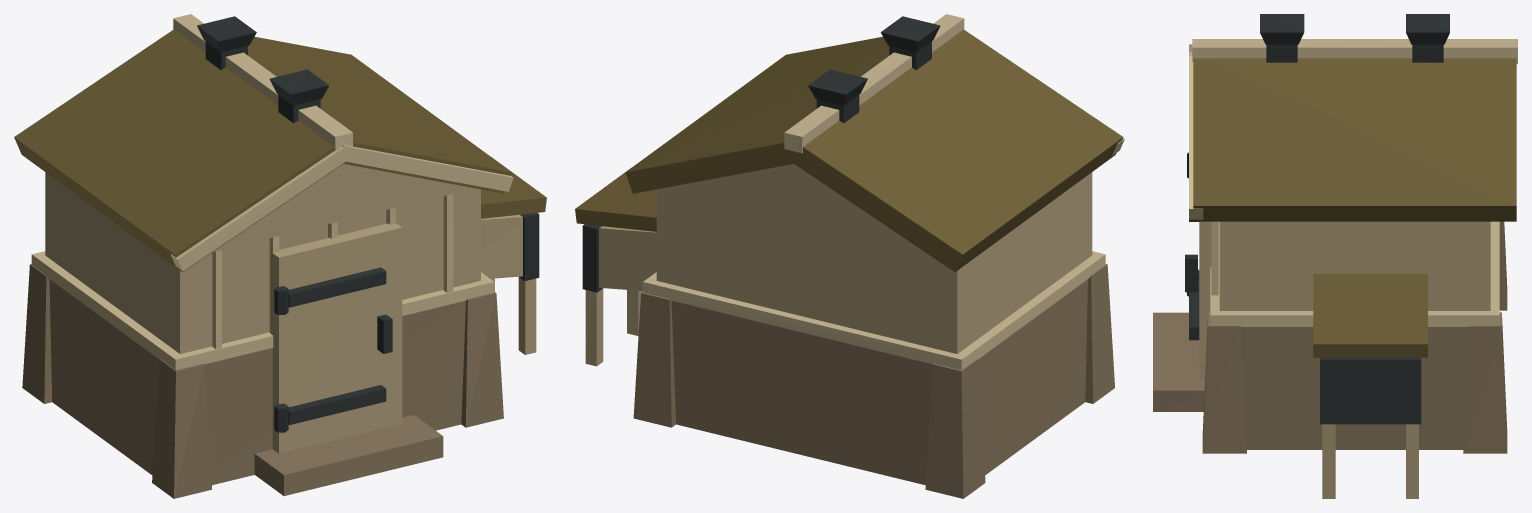
The model's file is ice-house.source.glb.
The picture shows the model from 3 angles, left to right: view 1: azimuth 30°, elevation 25°; view 2: azimuth 150°, elevation 25°; view 3: azimuth 270°, elevation 25°; orthographic projection.
Visible parts, largest first — view 1: ice-house-left-earth-roof-panel-mesh, ice-house-stone-wall-block-mesh, ice-house-upper-shell-block-mesh, ice-house-door-leaf-mesh, ice-house-right-earth-roof-panel-mesh, ice-house-threshold-stone-mesh, ice-house-front-gable-mesh, ice-house-front-left-stone-corner-mesh, ice-house-insulation-belt-mesh, ice-house-front-right-stone-corner-mesh, ice-house-roof-ridge-mesh, ice-house-left-roof-fascia-mesh (+13 smaller); view 2: ice-house-stone-wall-block-mesh, ice-house-left-earth-roof-panel-mesh, ice-house-upper-shell-block-mesh, ice-house-right-earth-roof-panel-mesh, ice-house-insulation-belt-mesh, ice-house-rear-gable-mesh, ice-house-rear-left-stone-corner-mesh, ice-house-rear-right-stone-corner-mesh, ice-house-roof-ridge-mesh, ice-house-loading-chute-body-mesh, ice-house-front-left-stone-corner-mesh, ice-house-loading-chute-cover-mesh (+5 smaller); view 3: ice-house-right-earth-roof-panel-mesh, ice-house-upper-shell-block-mesh, ice-house-stone-wall-block-mesh, ice-house-loading-chute-cover-mesh, ice-house-loading-chute-mouth-mesh, ice-house-roof-ridge-mesh, ice-house-rear-right-stone-corner-mesh, ice-house-front-right-stone-corner-mesh, ice-house-threshold-stone-mesh, ice-house-insulation-belt-mesh, ice-house-door-leaf-mesh, ice-house-roof-vent-1-cap-mesh (+10 smaller).
Part boxes in pixels (left/top/right/bottom): ice-house-left-earth-roof-panel-mesh: left=14, top=29, right=345, bottom=272; ice-house-stone-wall-block-mesh: left=49, top=279, right=465, bottom=485; ice-house-upper-shell-block-mesh: left=45, top=172, right=480, bottom=353; ice-house-door-leaf-mesh: left=271, top=223, right=402, bottom=453; ice-house-right-earth-roof-panel-mesh: left=248, top=36, right=511, bottom=193; ice-house-threshold-stone-mesh: left=254, top=415, right=443, bottom=495; ice-house-front-gable-mesh: left=212, top=164, right=474, bottom=252; ice-house-front-left-stone-corner-mesh: left=152, top=359, right=211, bottom=498; ice-house-insulation-belt-mesh: left=31, top=251, right=494, bottom=369; ice-house-front-right-stone-corner-mesh: left=461, top=292, right=503, bottom=427; ice-house-roof-ridge-mesh: left=173, top=14, right=352, bottom=150; ice-house-left-roof-fascia-mesh: left=170, top=144, right=351, bottom=271; ice-house-stone-wall-block-mesh: left=671, top=279, right=1087, bottom=485; ice-house-left-earth-roof-panel-mesh: left=787, top=29, right=1123, bottom=271; ice-house-upper-shell-block-mesh: left=656, top=172, right=1092, bottom=353; ice-house-right-earth-roof-panel-mesh: left=625, top=36, right=889, bottom=193; ice-house-insulation-belt-mesh: left=643, top=251, right=1105, bottom=370; ice-house-rear-gable-mesh: left=663, top=164, right=924, bottom=252; ice-house-rear-left-stone-corner-mesh: left=925, top=359, right=985, bottom=498; ice-house-rear-right-stone-corner-mesh: left=633, top=292, right=675, bottom=427; ice-house-roof-ridge-mesh: left=784, top=14, right=964, bottom=153; ice-house-loading-chute-body-mesh: left=599, top=226, right=656, bottom=290; ice-house-front-left-stone-corner-mesh: left=1085, top=264, right=1114, bottom=403; ice-house-loading-chute-cover-mesh: left=575, top=168, right=656, bottom=231; ice-house-right-earth-roof-panel-mesh: left=1193, top=58, right=1516, bottom=221; ice-house-upper-shell-block-mesh: left=1219, top=221, right=1490, bottom=310; ice-house-stone-wall-block-mesh: left=1241, top=327, right=1468, bottom=449; ice-house-loading-chute-cover-mesh: left=1313, top=273, right=1427, bottom=357; ice-house-loading-chute-mouth-mesh: left=1320, top=357, right=1421, bottom=424; ice-house-roof-ridge-mesh: left=1192, top=39, right=1517, bottom=64; ice-house-rear-right-stone-corner-mesh: left=1463, top=312, right=1507, bottom=453; ice-house-front-right-stone-corner-mesh: left=1202, top=312, right=1246, bottom=453; ice-house-threshold-stone-mesh: left=1153, top=312, right=1204, bottom=411; ice-house-insulation-belt-mesh: left=1210, top=221, right=1499, bottom=326; ice-house-door-leaf-mesh: left=1199, top=221, right=1211, bottom=381; ice-house-roof-vent-1-cap-mesh: left=1260, top=14, right=1304, bottom=44.
Size of the model in its own units: 3.85 by 2.96 by 2.8.
